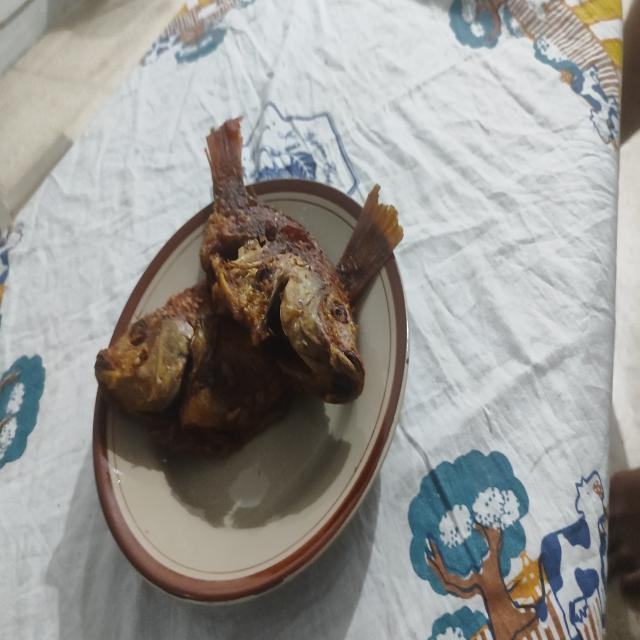ikan_mujair: (94, 184, 403, 453), (200, 118, 365, 404)
